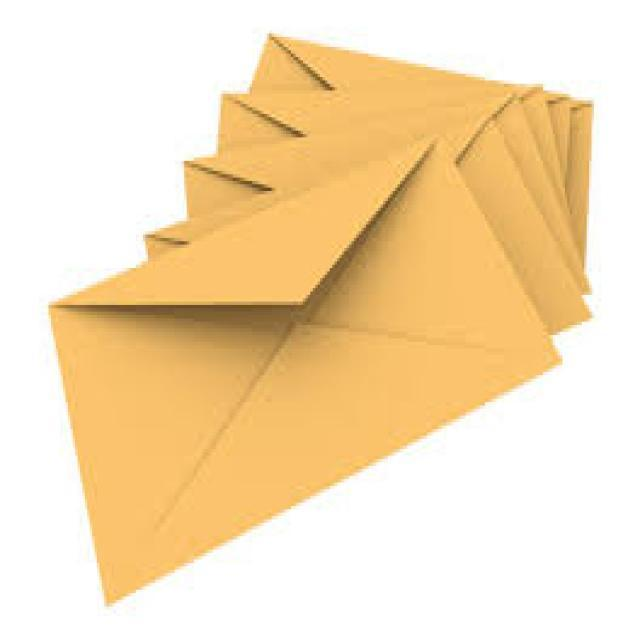trashbin: (45, 31, 596, 606)
